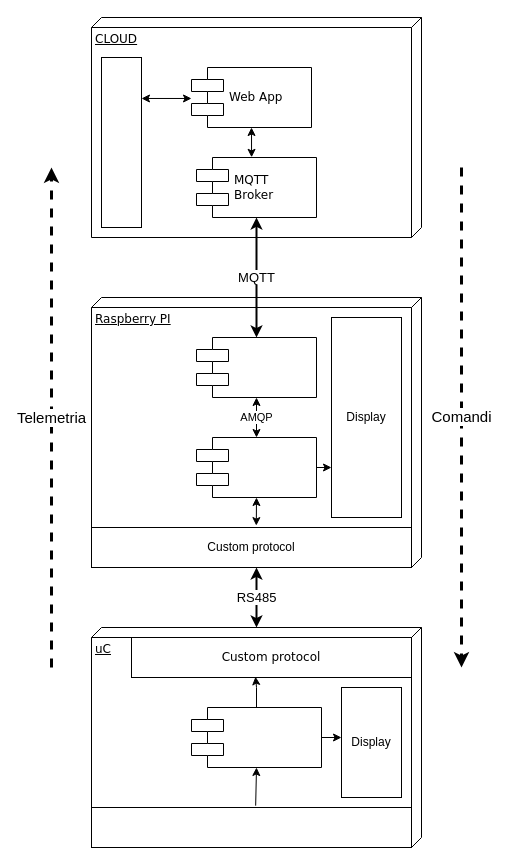
The diagram is 509 pixels wide and 865 high, and some of its shapes have lost their labels. The shapes that lost their labels are listed below. From the top down, each one's centre as x and y in pixels, then its label:
the point at 121,142: UI
the point at 256,367: Interprete AMQP (connection check)
the point at 256,467: Interprete Seriale
the point at 256,737: Lettura e interpretazione segnali
the point at 251,827: Sensori
